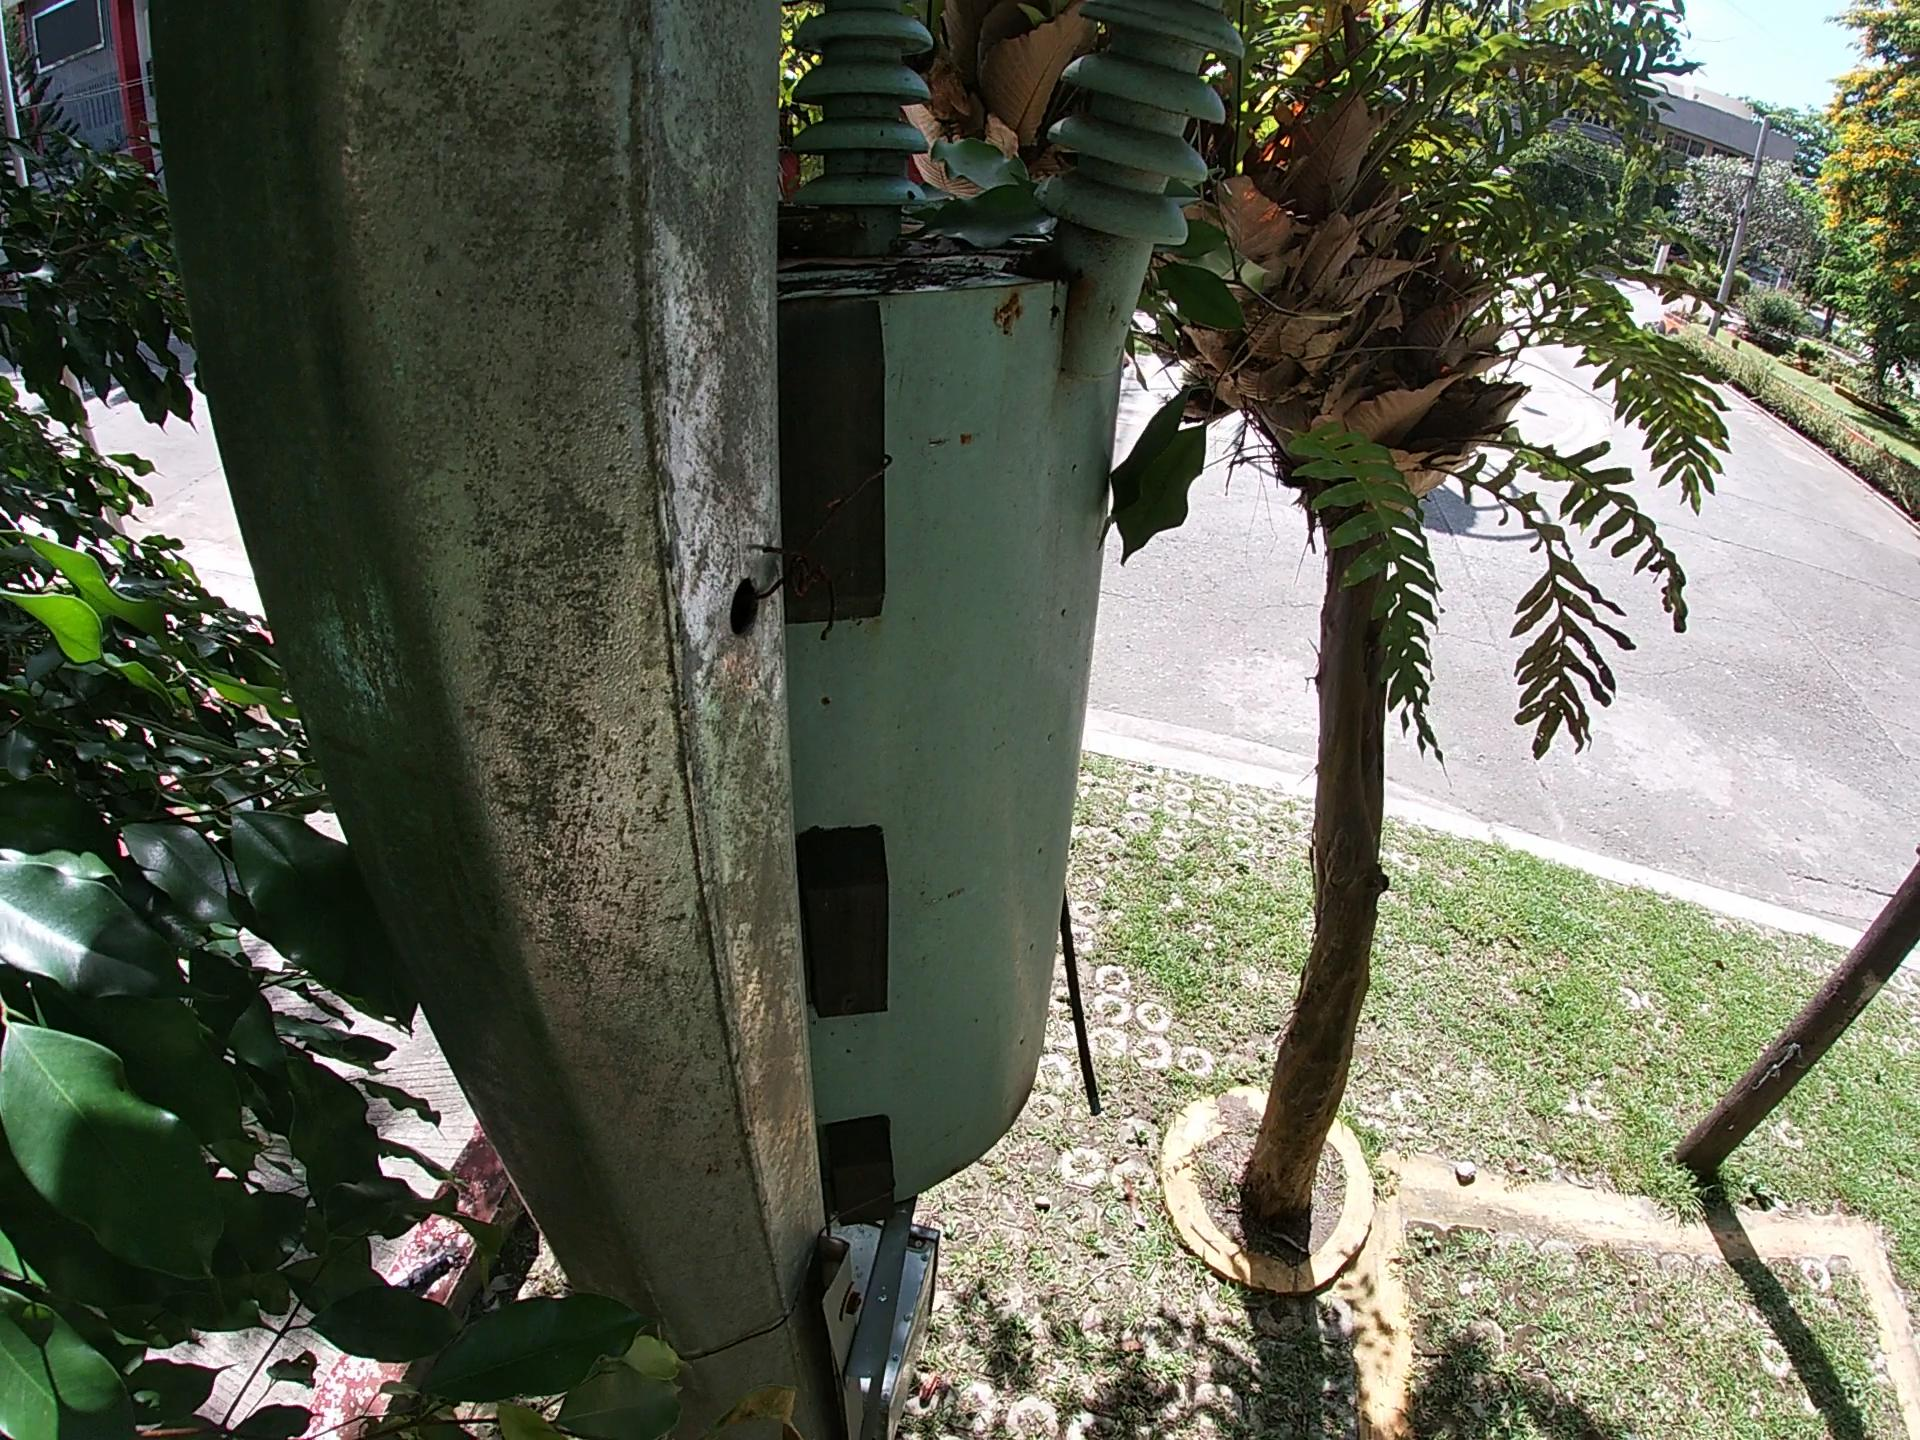branch with leaves: (1101, 91, 1330, 597)
leaf: (919, 121, 1055, 262), (785, 245, 890, 278)
tree branch: (774, 206, 880, 245)
